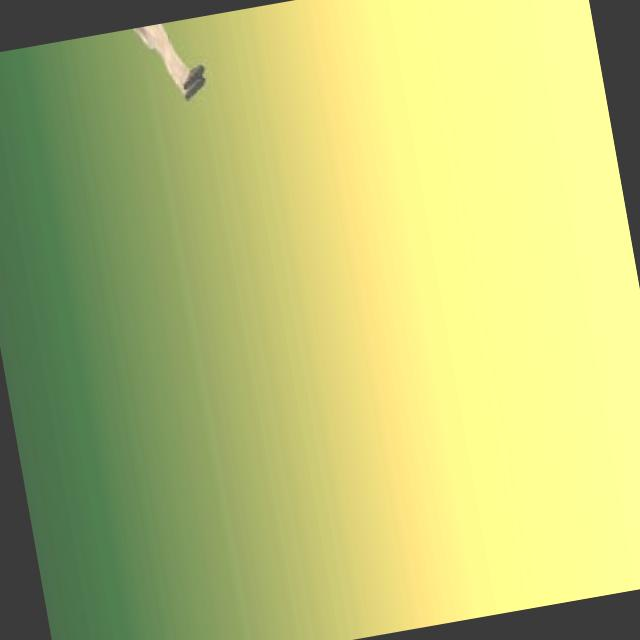Person: (124, 17, 214, 116)
